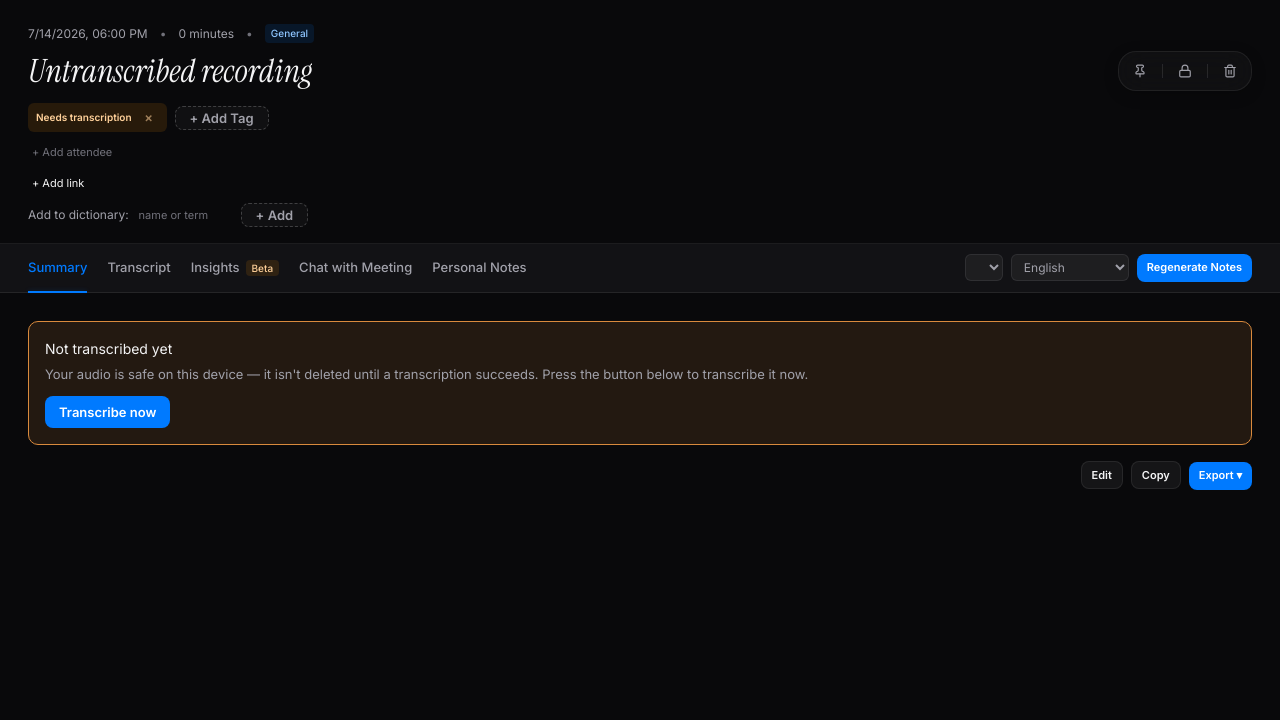
Test case: NoteViewer pending meeting recovery › re-reads the meeting when transcription fails AFTER saving the transcript
Click the button "Transcribe now": (108, 412) left=45, top=396, right=170, bottom=428
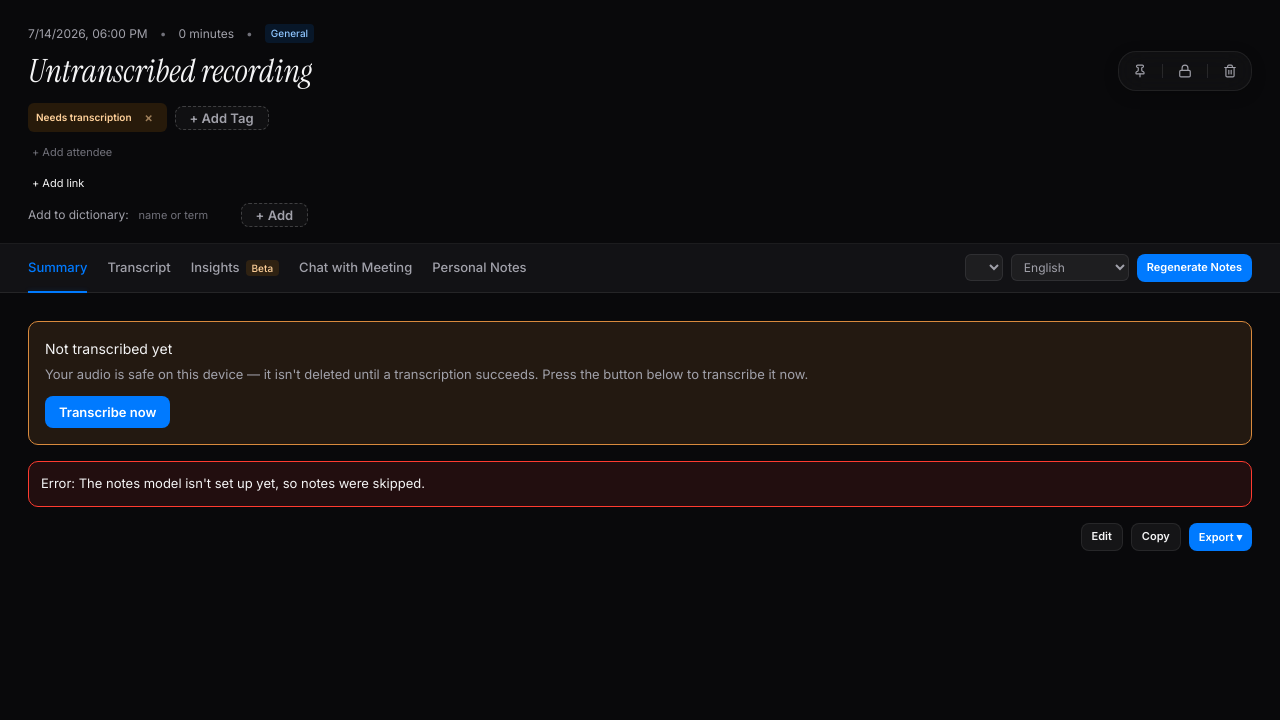
Result: the message shows "notes were skipped" at left=41, top=475, right=425, bottom=491
